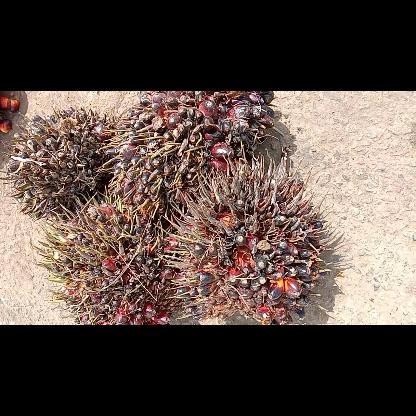TBS abnormal: (174, 155, 336, 320), (52, 189, 176, 323), (119, 91, 275, 185), (10, 110, 115, 210)
